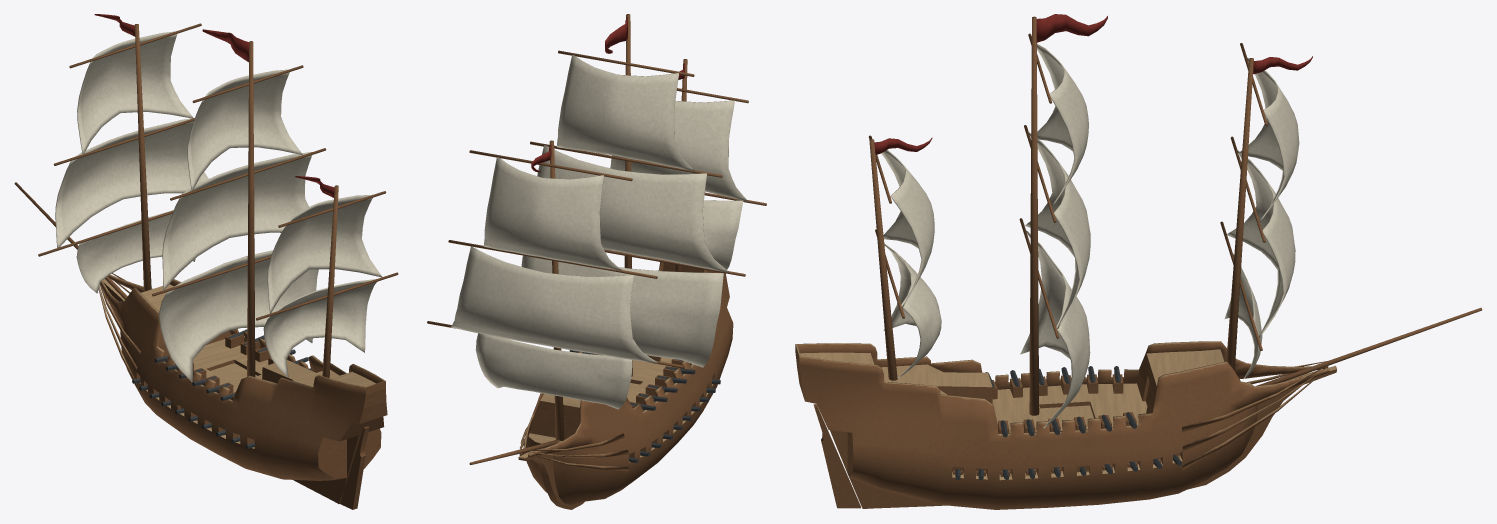
The model's file is galleon.glb.
3 views of the same model, side by side, from view 1: azimuth 30°, elevation 25°; view 2: azimuth 150°, elevation 25°; view 3: azimuth 270°, elevation 25° (orthographic). The views are drawn at different scales.
Visible parts, largest first — view 1: Wind-filled canvas, Galleon; view 2: Wind-filled canvas, Galleon; view 3: Galleon, Wind-filled canvas.
Boxes of the visible parts, bbox=[...] form: Wind-filled canvas: bbox=[55, 31, 382, 382]; Galleon: bbox=[14, 14, 398, 509]; Wind-filled canvas: bbox=[451, 54, 747, 409]; Galleon: bbox=[427, 14, 766, 509]; Galleon: bbox=[795, 14, 1482, 509]; Wind-filled canvas: bbox=[881, 43, 1299, 428].
Bounding box in the file's own units: 4.06 × 6.81 × 8.8.
Materials: 1 (1 with a texture image).
